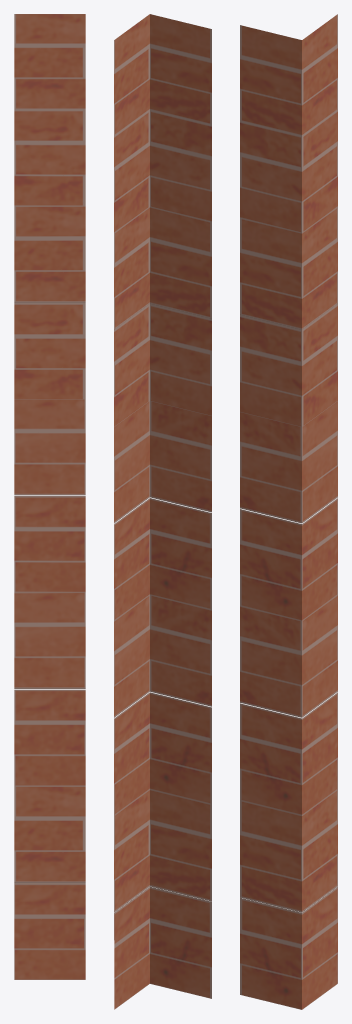
Rendered from MT_OS_OpenCorner_Small.fbx.
The picture shows the model from 3 angles, left to right: view 1: azimuth 90°, elevation 25°; view 2: azimuth 150°, elevation 25°; view 3: azimuth 330°, elevation 25°; orthographic projection.
Visible parts, largest first — view 1: OpenCorner.003; view 2: OpenCorner.003; view 3: OpenCorner.003.
Part boxes in pixels (x1,y1,x2,y2): OpenCorner.003: (14,14,85,979); OpenCorner.003: (114,14,211,1009); OpenCorner.003: (240,14,337,1009).
Bounding box in the file's own units: 20.04 × 299 × 20.04.
